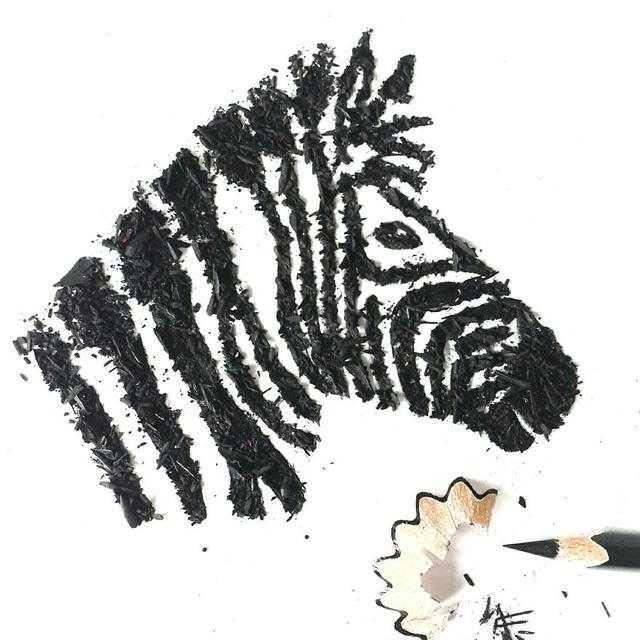pencil: (479, 509, 639, 582)
